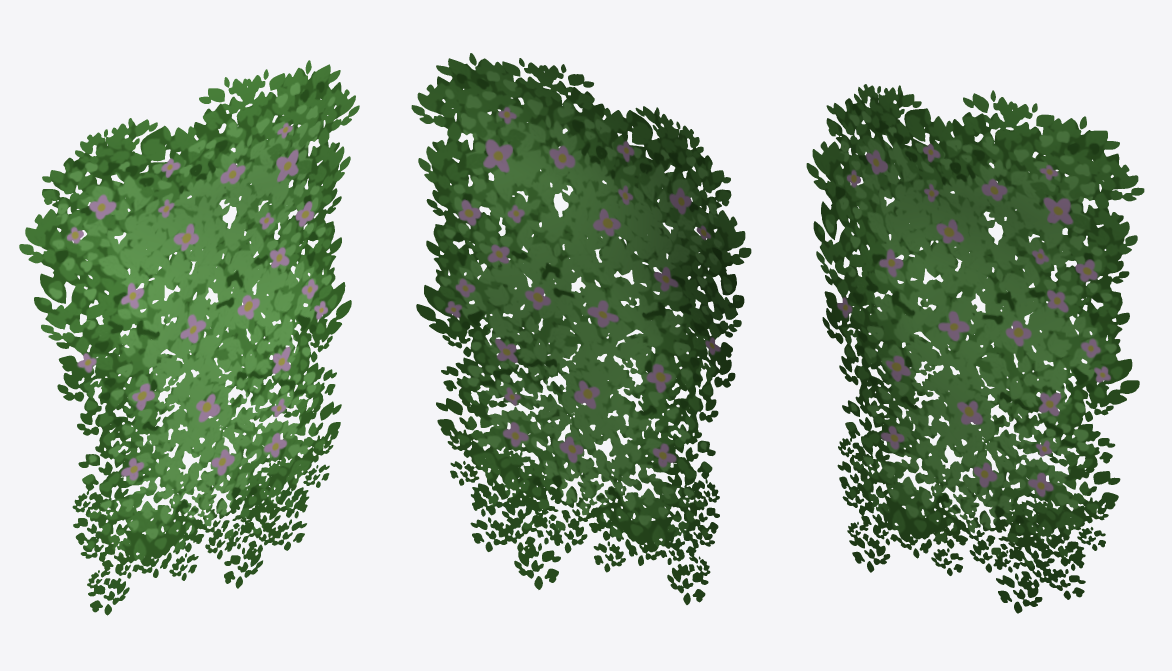
The model's file is E_ParedFlores.fbx.
3 renders of one model, left to right at view 1: azimuth 30°, elevation 25°; view 2: azimuth 150°, elevation 25°; view 3: azimuth 330°, elevation 25°, orthographic.
Parts seen in each view (by area): view 1: E_ParedFlores; view 2: E_ParedFlores; view 3: E_ParedFlores.
Boxes of the visible parts, x1,y1,x2,y2 form: E_ParedFlores: (19,60,359,615); E_ParedFlores: (411,53,751,604); E_ParedFlores: (806,84,1144,613).
Size of the model in its own units: 800 by 1200 by 79.89.
Materials: 1 (1 with a texture image).
